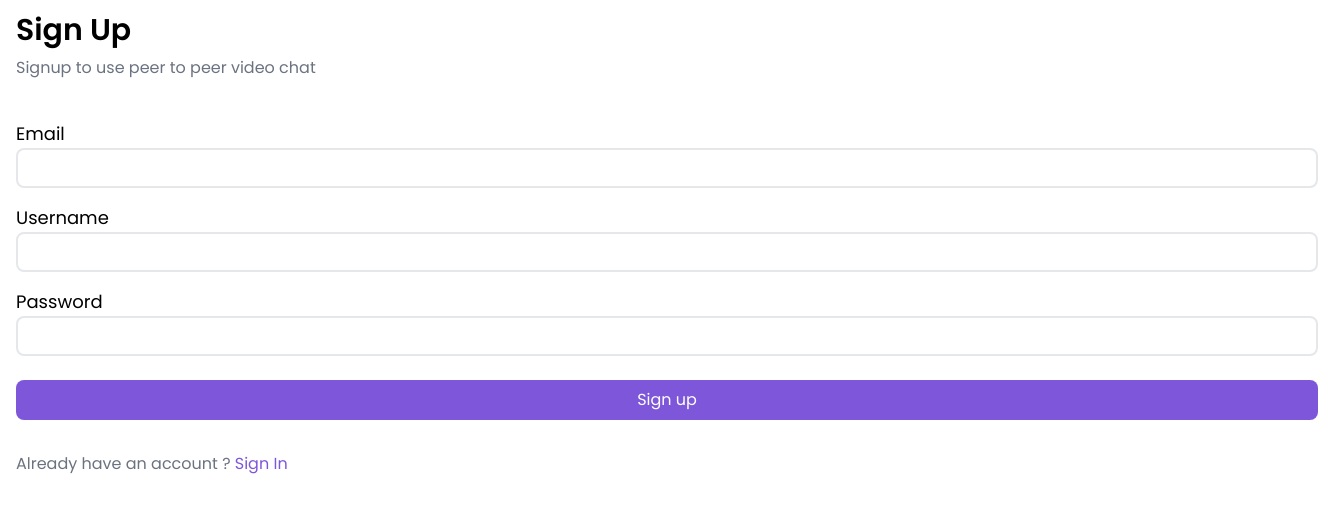
it: Signup form › should show error if email is already being used
Type "email@email.com" into the field labelled "Email".
click(667, 168); type("email@email.com")  # box [16, 148, 1318, 188]
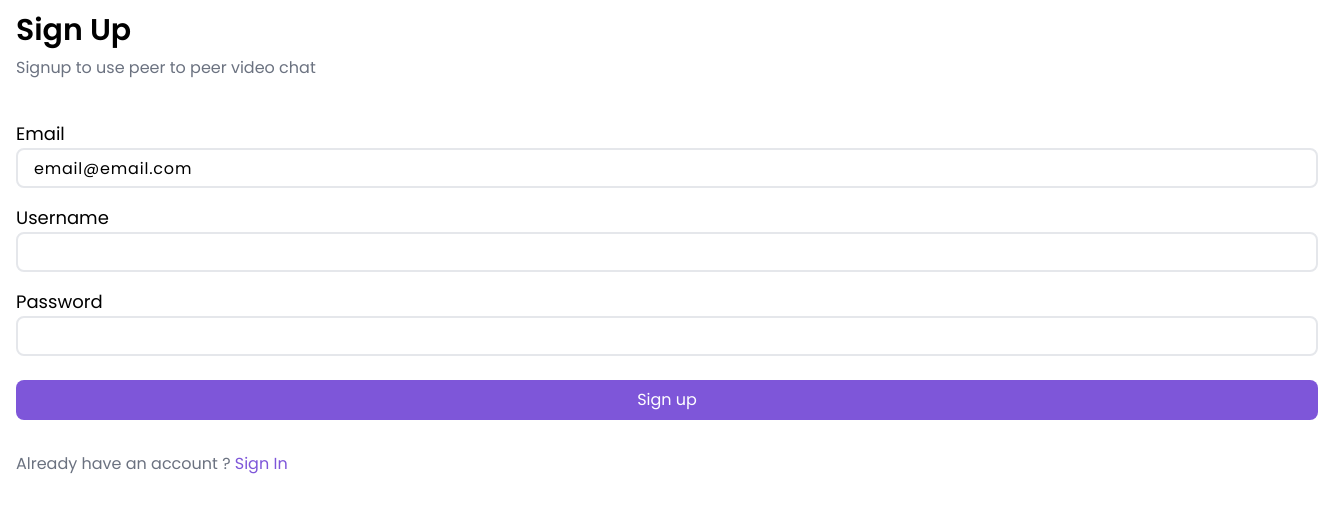
Type "testusername" into the field labelled "Username".
click(667, 252); type("testusername")  # box [16, 232, 1318, 272]
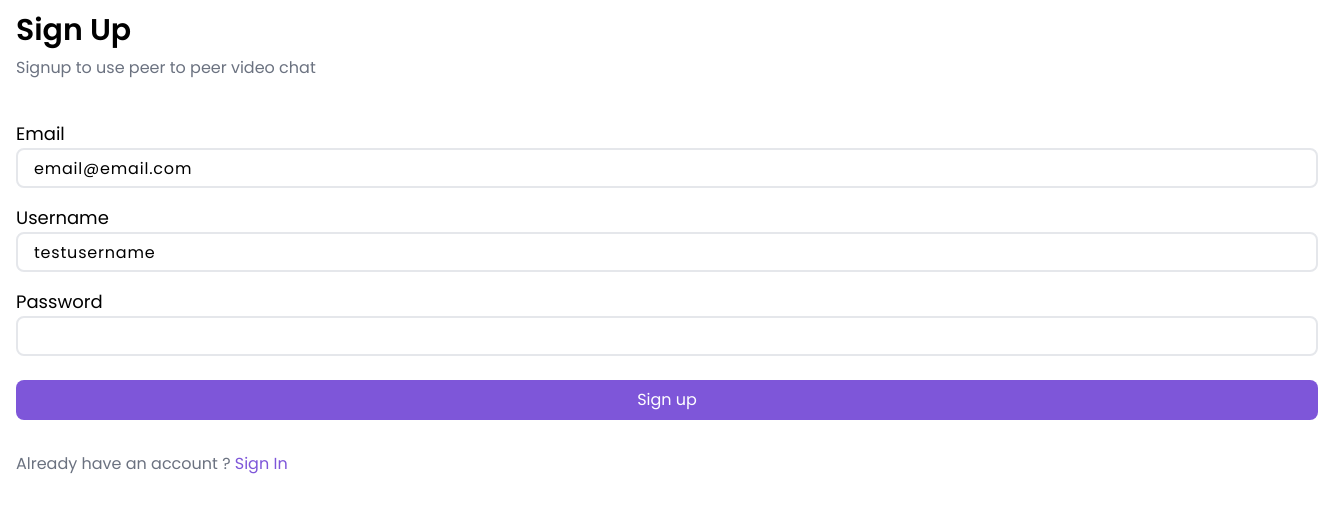
Type "testpassword" into the password field labelled "Password".
click(667, 336); type("testpassword")  # box [16, 316, 1318, 356]
Then press Enter
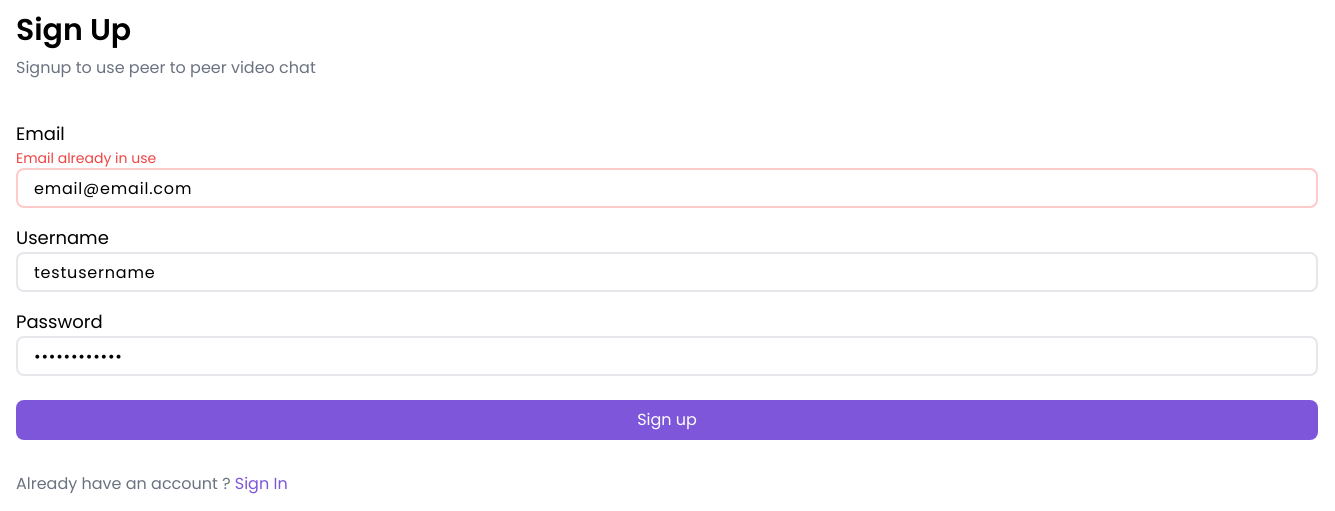
Expected: the text "Email already in use" is shown, [16, 148, 156, 168]
